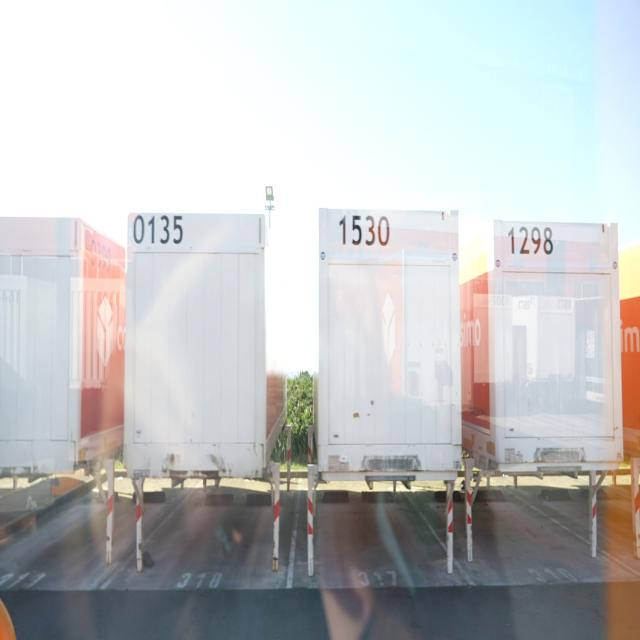Code: (336, 206, 396, 258), (129, 208, 186, 250), (505, 217, 554, 263)
